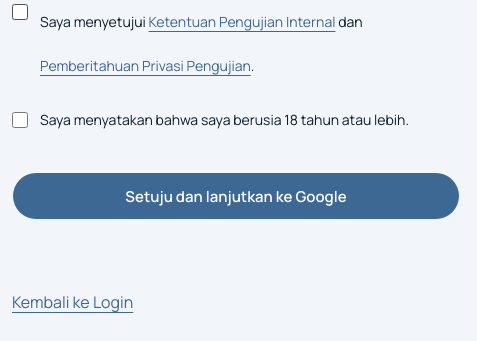
internal Google consent form › keeps native POST and returnTo, prevents double submit and restores pending on pageshow
Click the checkbox labelled "Saya menyetujui" at [20, 12], box [12, 4, 28, 20]
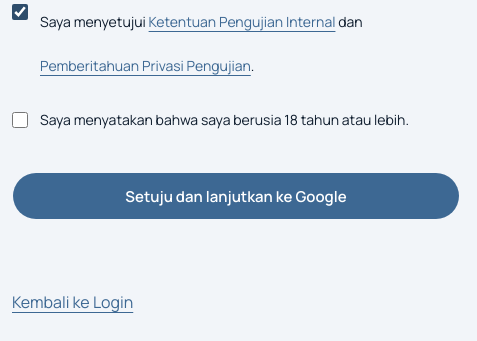
Click the checkbox labelled "Saya menyatakan bahwa saya berusia 18 tahun atau lebih." at [20, 120], box [12, 112, 28, 128]
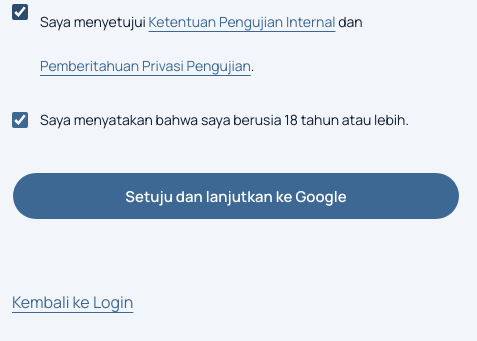
Submit the form
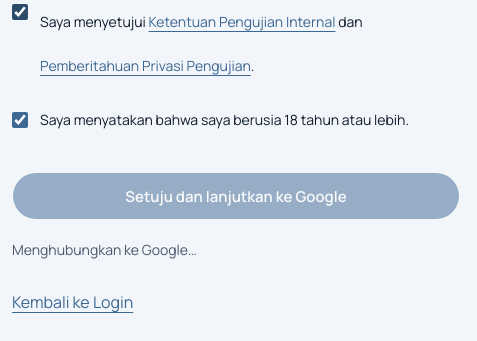
Expected: the button is disabled, [12, 172, 460, 220]
Expected: the message reads "Menghubungkan ke Google…", [12, 240, 197, 259]
Submit the form
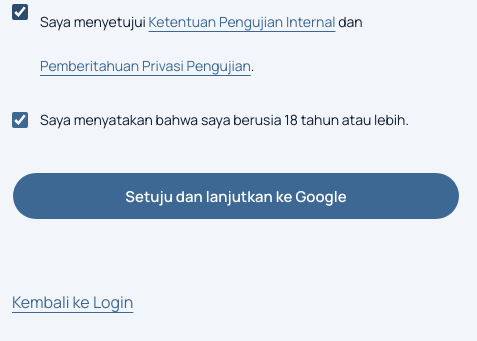
Expected: the button is enabled, [12, 172, 460, 220]
